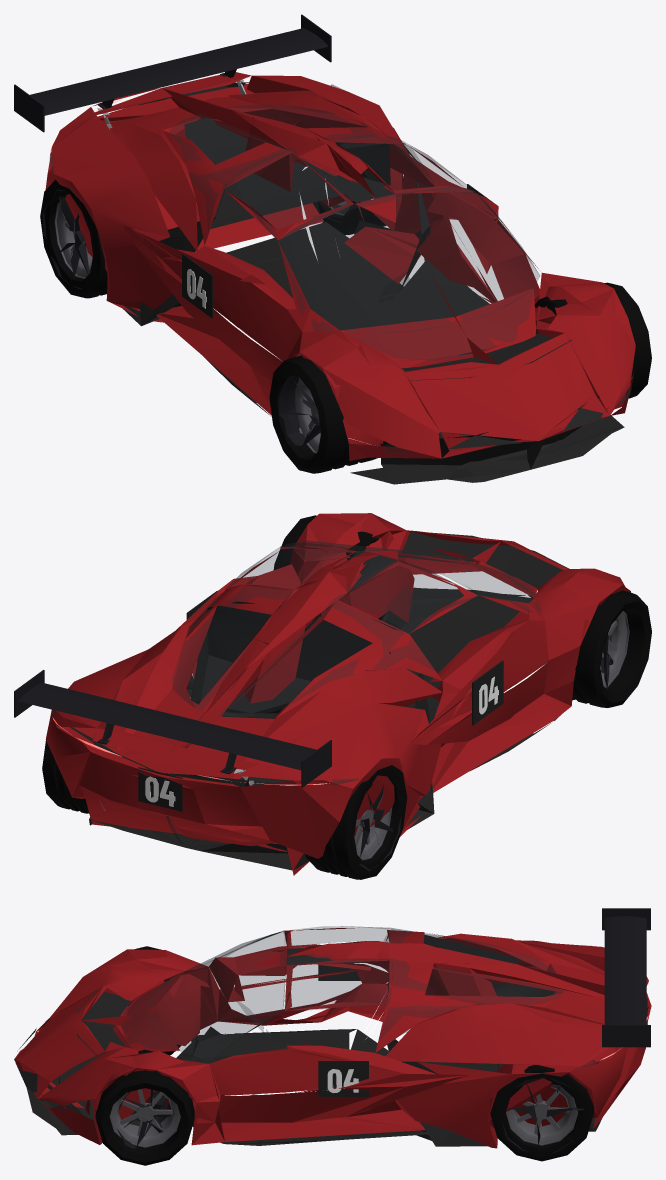
Rendered from vanta-gt4.glb.
3 views of the same model, one above another, from view 1: azimuth 30°, elevation 25°; view 2: azimuth 150°, elevation 25°; view 3: azimuth 270°, elevation 25° (orthographic). The views are drawn at different scales.
Visible parts, largest first — view 1: Body, Wheel_FR, Wheel_RR, Wheel_FL, Wheel_RL; view 2: Body, Wheel_FR, Wheel_RR, Wheel_RL, Wheel_FL; view 3: Body, Wheel_FL, Wheel_RL.
Part boxes in pixels (<box>): Body: <box>14,14,635,484</box>; Wheel_FR: <box>269,355,387,473</box>; Wheel_RR: <box>40,179,107,298</box>; Wheel_FL: <box>534,282,651,398</box>; Wheel_RL: <box>317,174,403,235</box>; Body: <box>14,513,630,875</box>; Wheel_FR: <box>572,590,651,707</box>; Wheel_RR: <box>305,765,407,879</box>; Wheel_RL: <box>42,740,89,813</box>; Wheel_FL: <box>273,515,388,630</box>; Body: <box>14,908,651,1153</box>; Wheel_FL: <box>95,1049,194,1165</box>; Wheel_RL: <box>490,1065,593,1161</box>.
Size of the model in its own units: 2.25 by 1.25 by 4.55.
6 materials, 1 textured.
